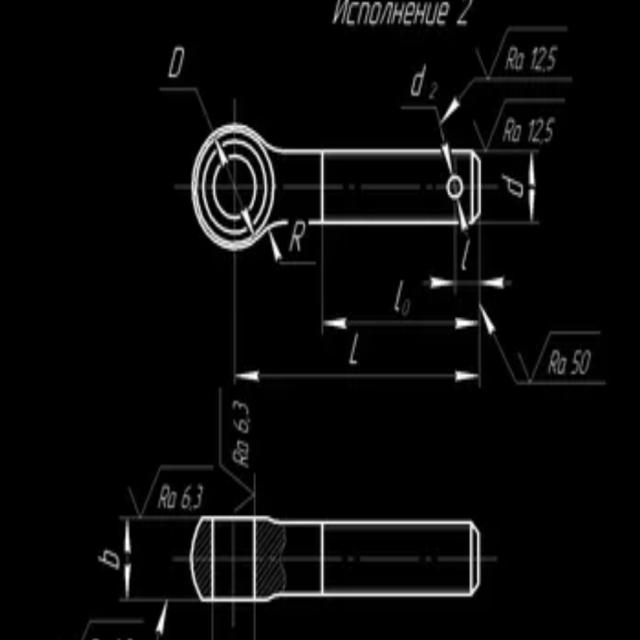marking_line: (234, 369, 479, 383), (325, 316, 477, 330), (526, 156, 538, 218), (424, 275, 452, 291), (481, 276, 512, 289)
numeric: (234, 399, 254, 419), (536, 44, 548, 76), (570, 347, 581, 378), (543, 116, 554, 146), (233, 417, 250, 436), (533, 117, 544, 144), (547, 47, 558, 74), (182, 484, 192, 512), (580, 348, 589, 378), (530, 43, 539, 73), (528, 118, 536, 147), (193, 485, 202, 510)
